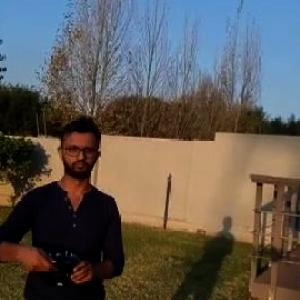follow: (0, 107, 128, 299)
